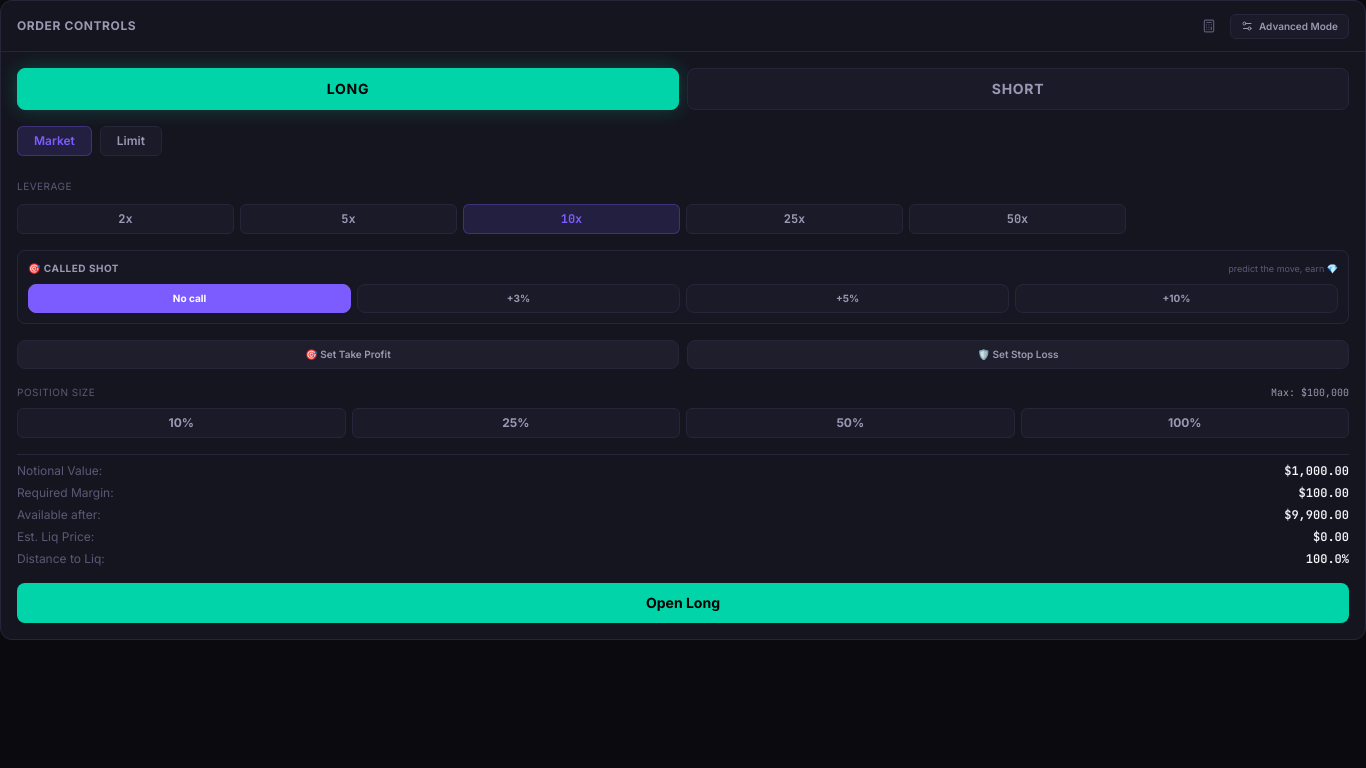
Test: TradeControls › changes step size via hidden step selector buttons
Step 1. Click the button "Limit" → (131, 141), box x1=100 y1=126 x2=162 y2=156
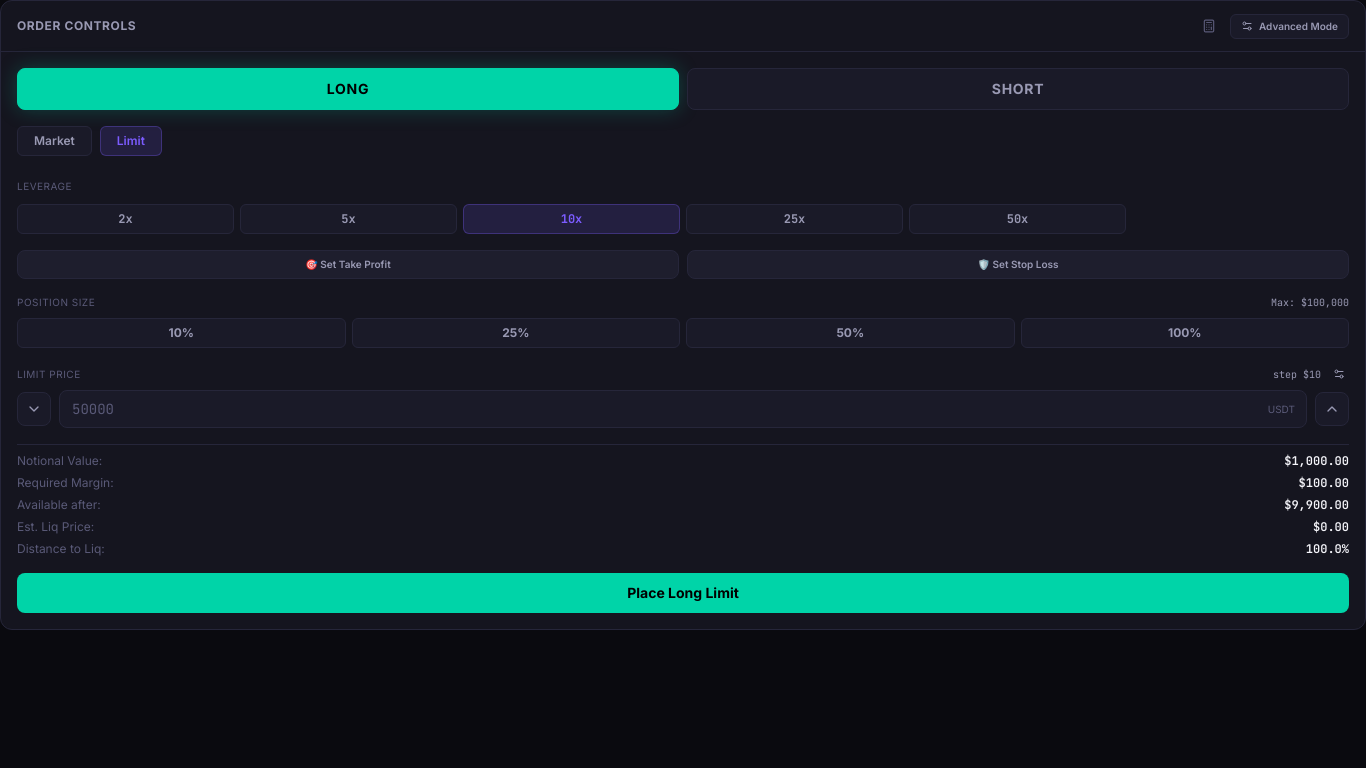
Step 2. Click the field with placeholder "50000" → (683, 409), box x1=59 y1=390 x2=1307 y2=428
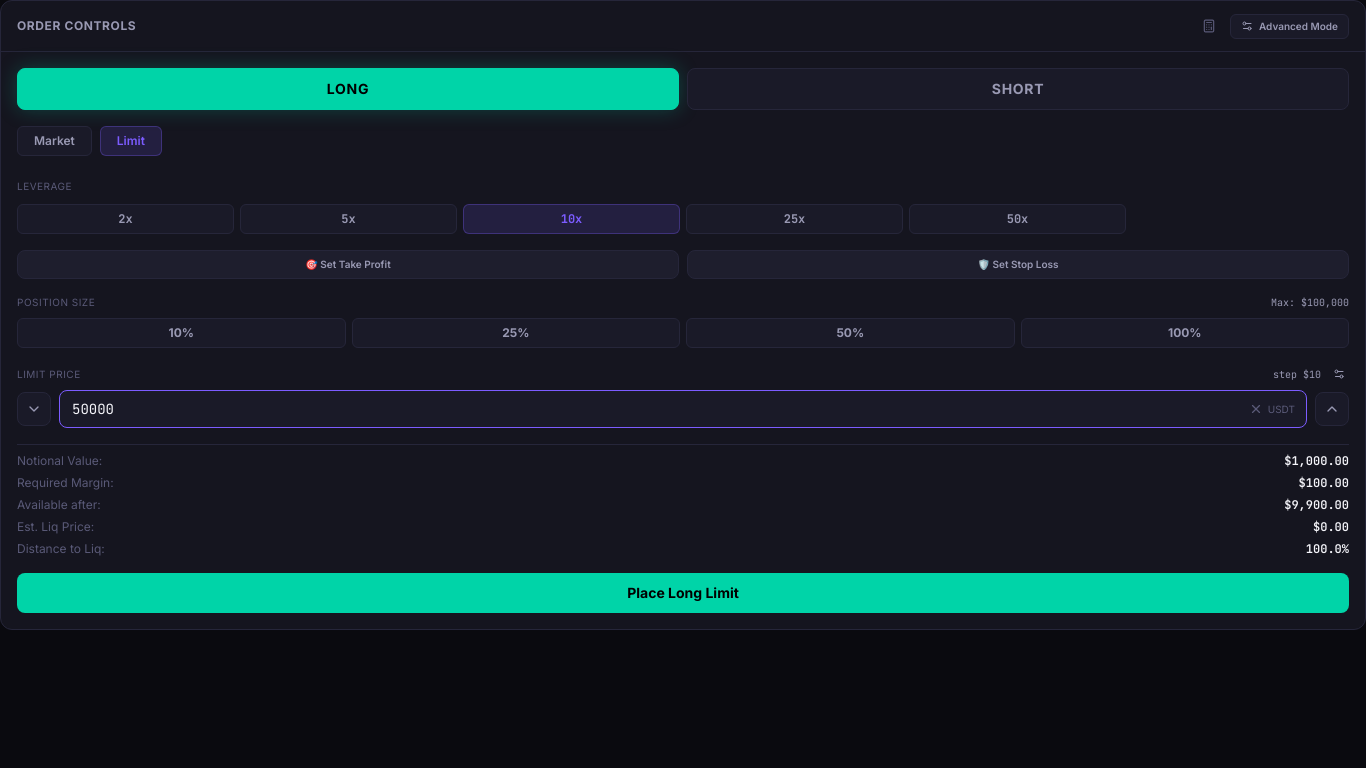
Step 3. Click the button named "Step settings" → (1339, 374), box x1=1329 y1=364 x2=1349 y2=384
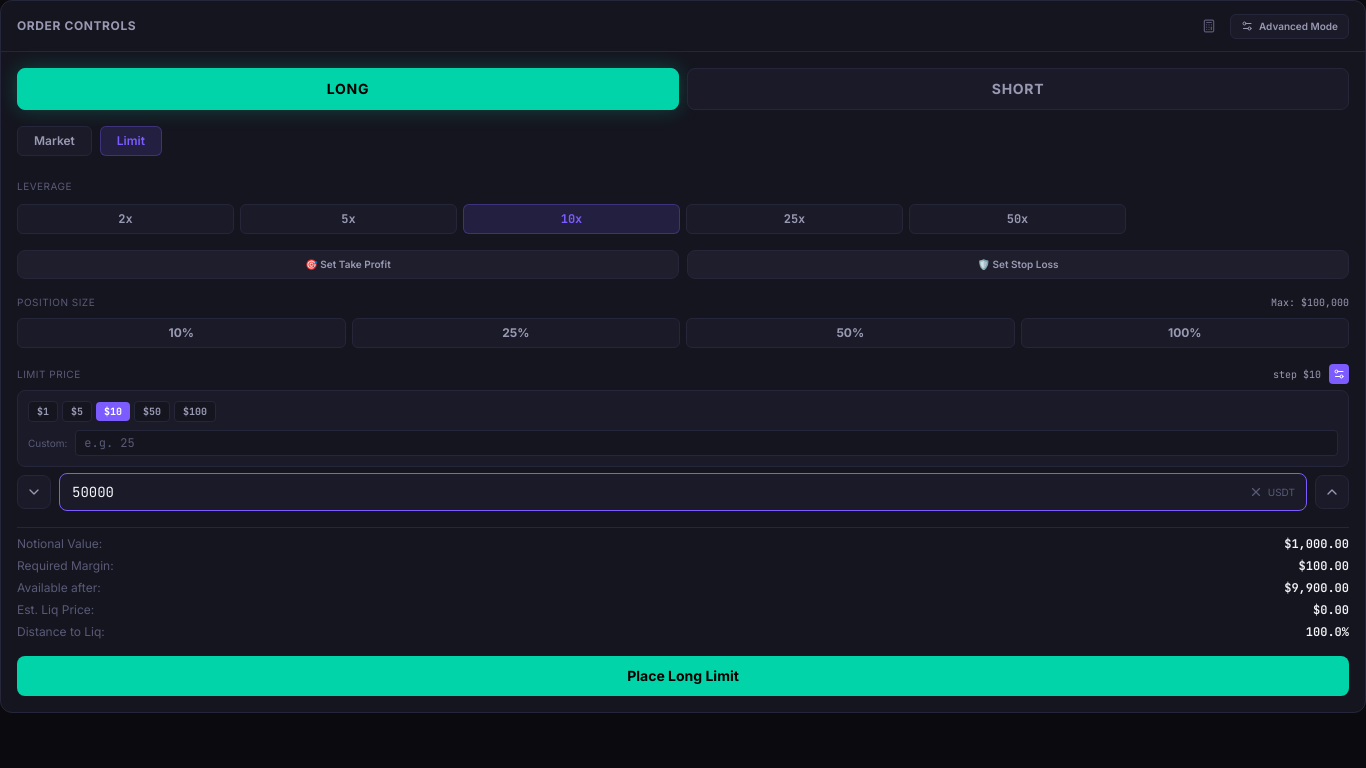
Step 4. Click the button "$1" → (43, 412), box x1=28 y1=401 x2=58 y2=422
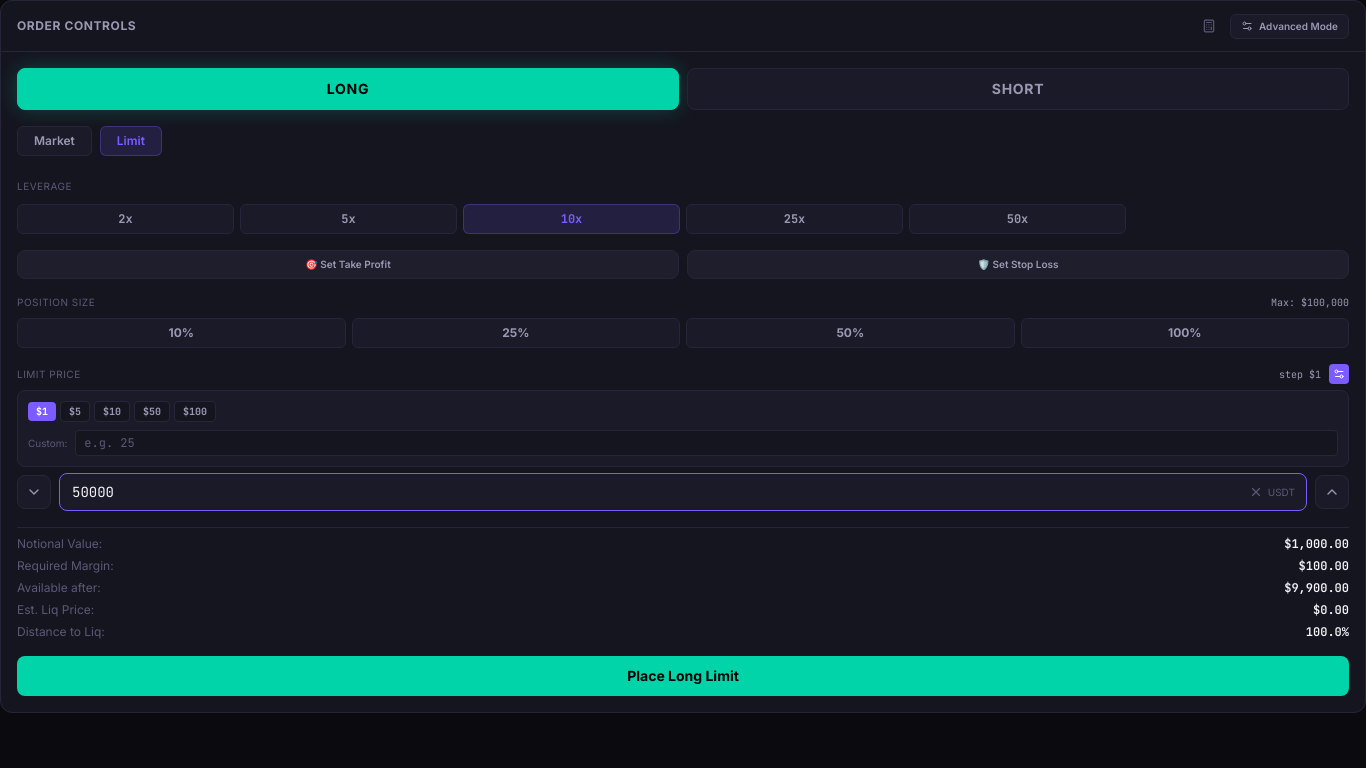
Step 5. Click the button with test id "limit-price-down" → (34, 492), box x1=17 y1=475 x2=51 y2=509
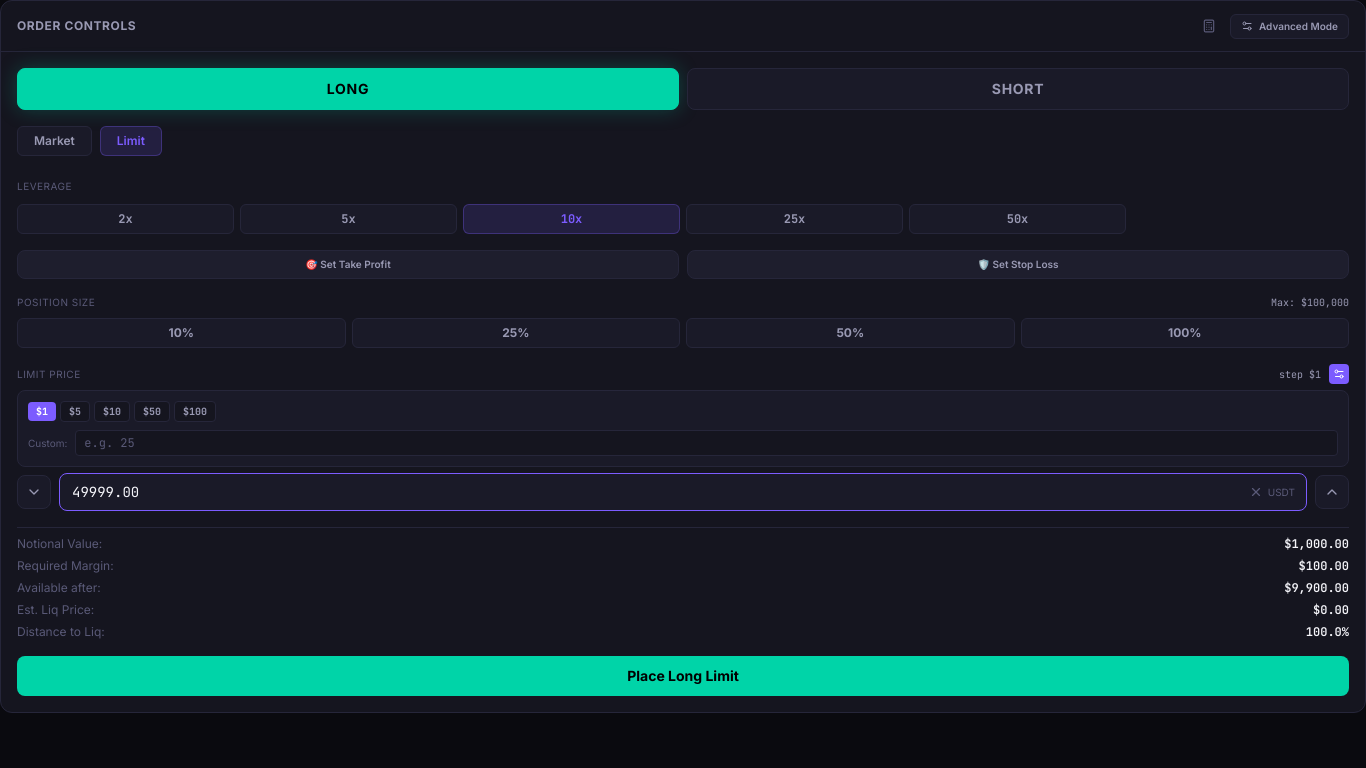
Check: the field with placeholder "50000" holds "49999.00", box x1=59 y1=473 x2=1307 y2=511
